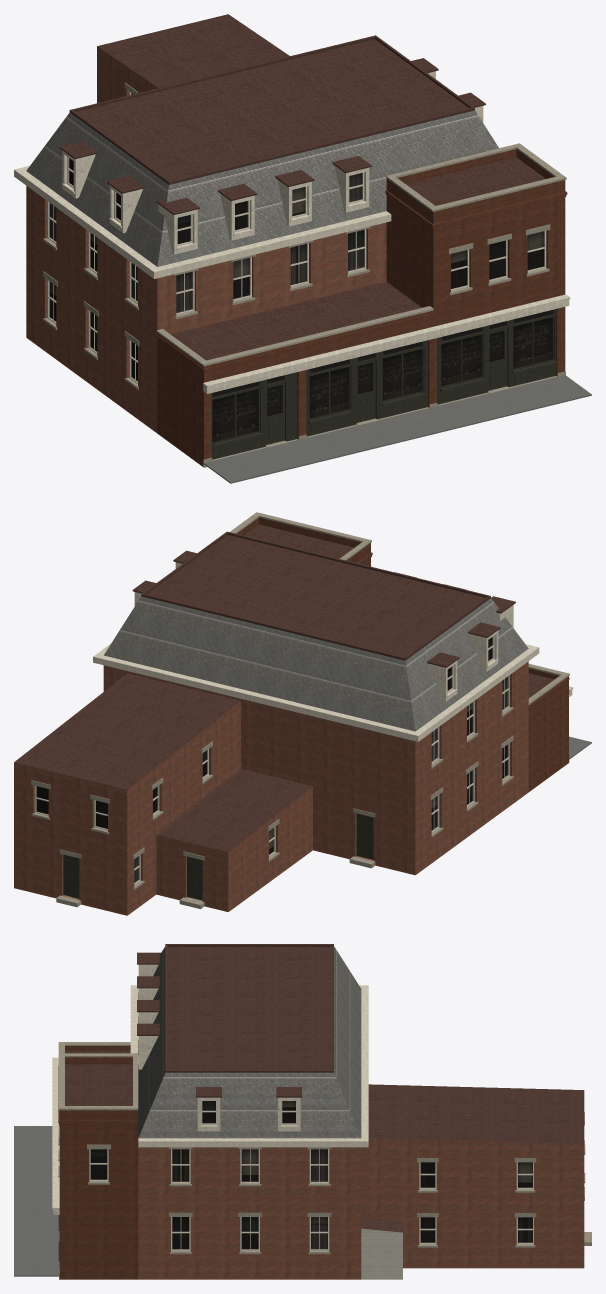
The model's file is store-57.glb.
The picture shows the model from 3 angles, top to bottom: view 1: azimuth 30°, elevation 25°; view 2: azimuth 150°, elevation 25°; view 3: azimuth 270°, elevation 25°; orthographic projection. The views are drawn at different scales.
Parts seen in each view (by area): view 1: Store57; view 2: Store57; view 3: Store57.
Part boxes in pixels (bbox=[...]): Store57: bbox=[14, 14, 591, 483]; Store57: bbox=[14, 512, 591, 915]; Store57: bbox=[14, 944, 591, 1279].
Bounding box in the file's own units: 17.04 × 10.05 × 26.67.
Materials: 11 (10 with a texture image).
